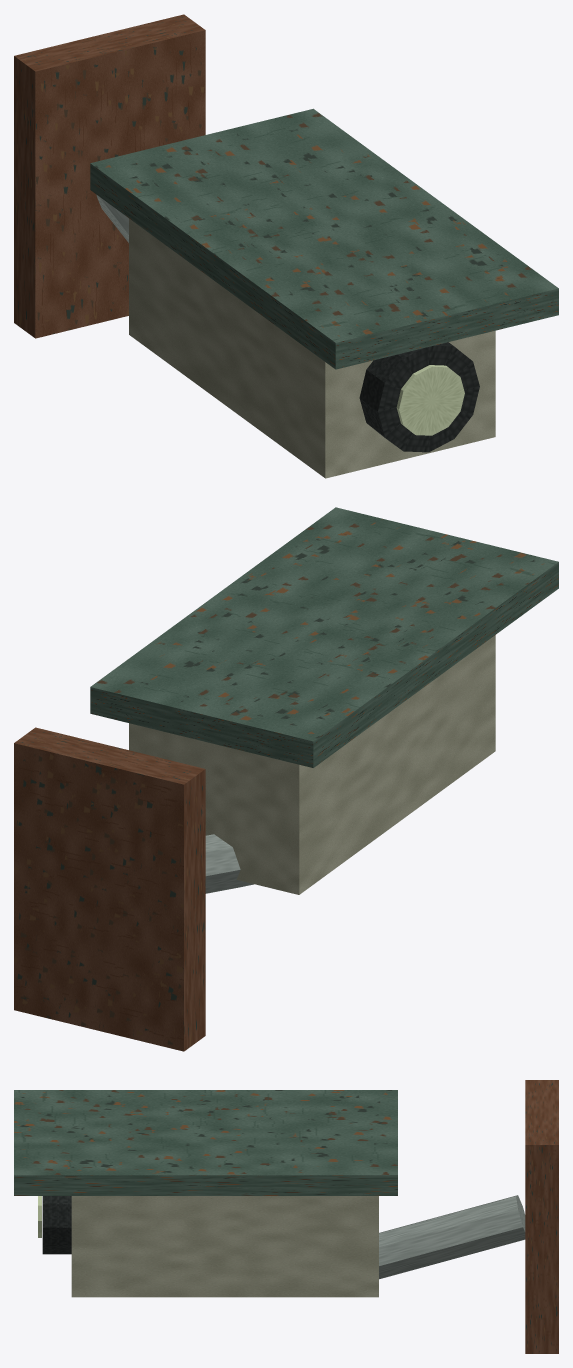
The model's file is SecurityCamera.obj.
3 views of the same model, one above another, from view 1: azimuth 30°, elevation 25°; view 2: azimuth 150°, elevation 25°; view 3: azimuth 270°, elevation 25° (orthographic). The views are drawn at different scales.
Parts seen in each view (by area): view 1: SecurityCamera; view 2: SecurityCamera; view 3: SecurityCamera.
Boxes of the visible parts, box(x1,y1,x2,y2) form: SecurityCamera: box(14, 14, 558, 478); SecurityCamera: box(14, 507, 558, 1051); SecurityCamera: box(14, 1080, 558, 1353).
Size of the model in its own units: 0.21 by 0.24 by 0.5675.
Materials: 6 (6 with a texture image).
